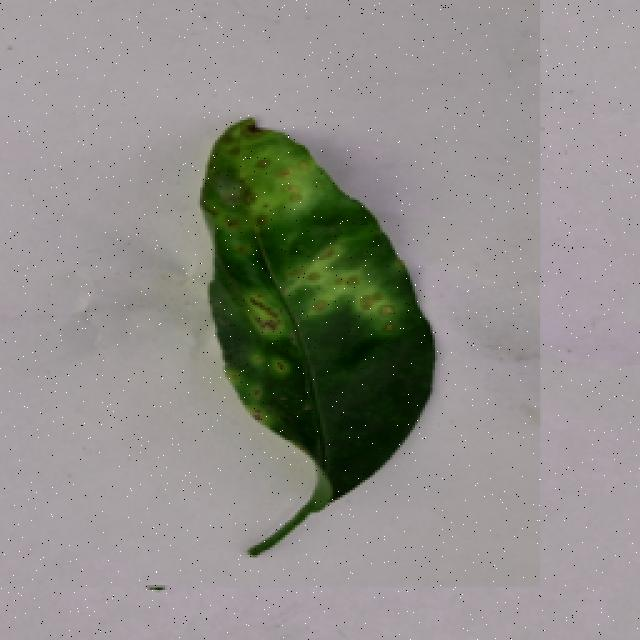canker: (167, 120, 454, 518)
